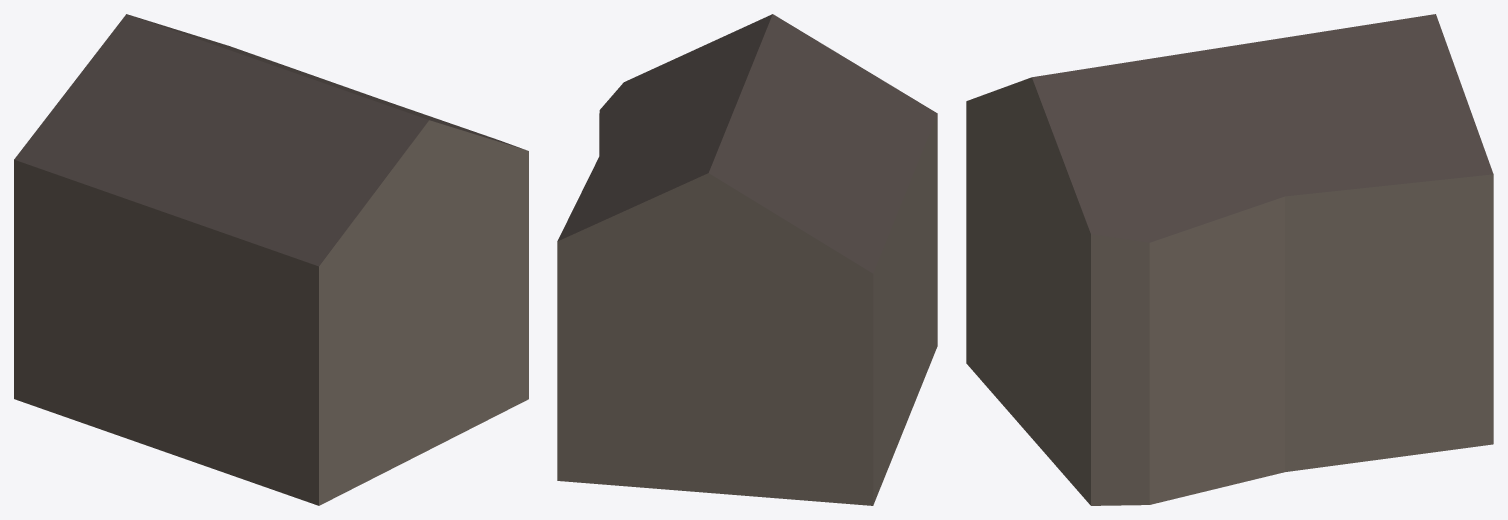
3 views of the same model, side by side, from view 1: azimuth 30°, elevation 25°; view 2: azimuth 150°, elevation 25°; view 3: azimuth 270°, elevation 25° (orthographic). The views are drawn at different scales.
Parts seen in each view (by area): view 1: HP-w1198020602; view 2: HP-w1198020602; view 3: HP-w1198020602.
Boxes of the visible parts, x1,y1,x2,y2 form: HP-w1198020602: (14, 14, 528, 505); HP-w1198020602: (557, 14, 937, 505); HP-w1198020602: (966, 14, 1493, 505).
Size of the model in its own units: 10.12 by 8.26 by 10.93.
